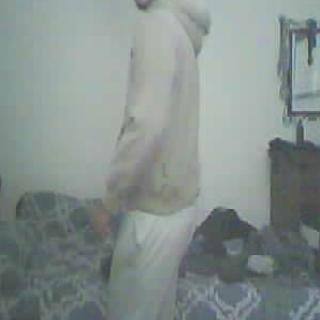White Sweatpants: (108, 202, 198, 320)
Yellow Hoodie: (120, 0, 202, 202)
